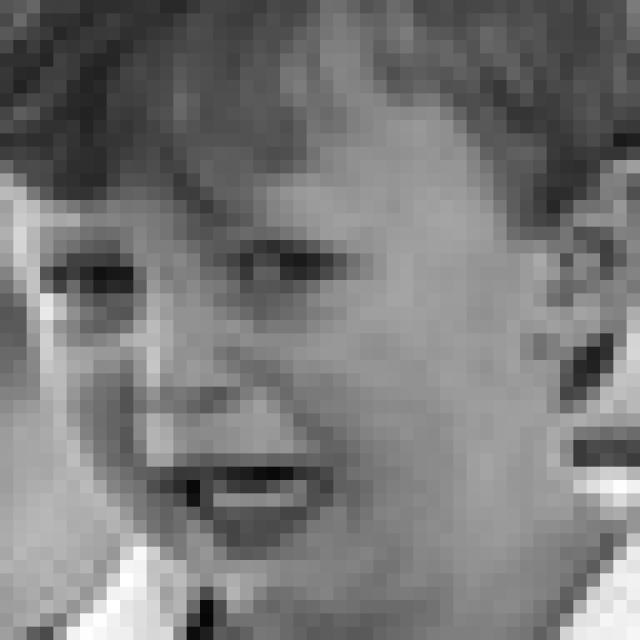sad: (49, 215, 372, 556)
